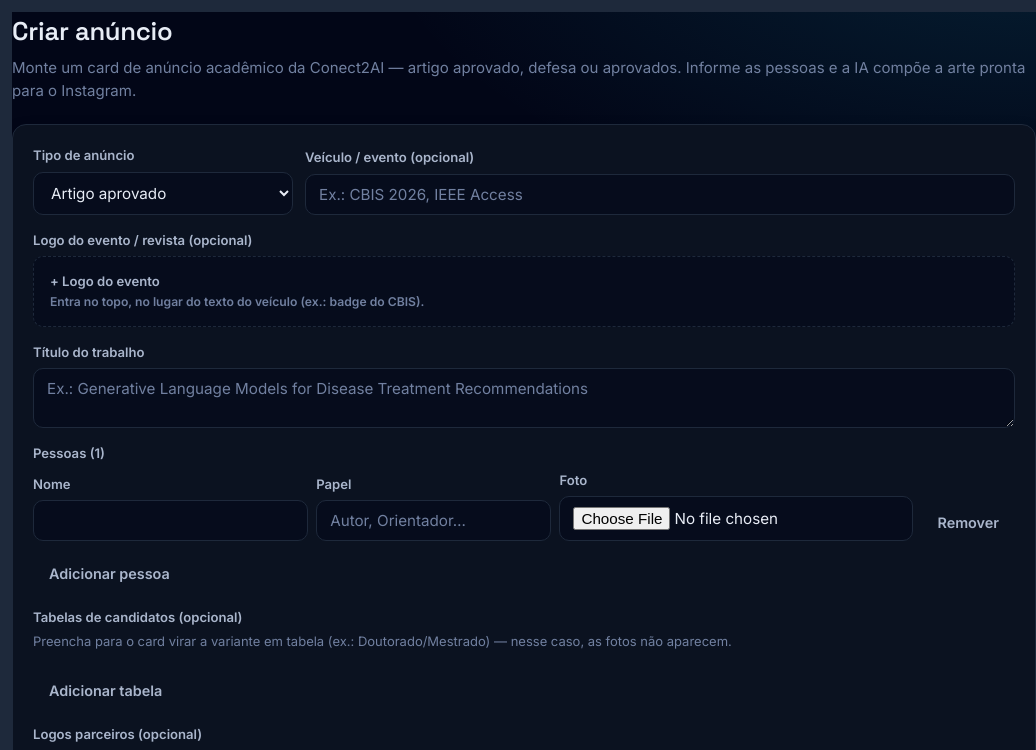
it: PaginaAnuncio › adiciona e remove pessoas do formulario
The width and height of the screenshot is (1036, 750).
Expected: the text "Pessoas (1)" is shown, [33, 445, 105, 461]
Step 1. Click the button "Adicionar pessoa" → (109, 574), box [33, 555, 186, 592]
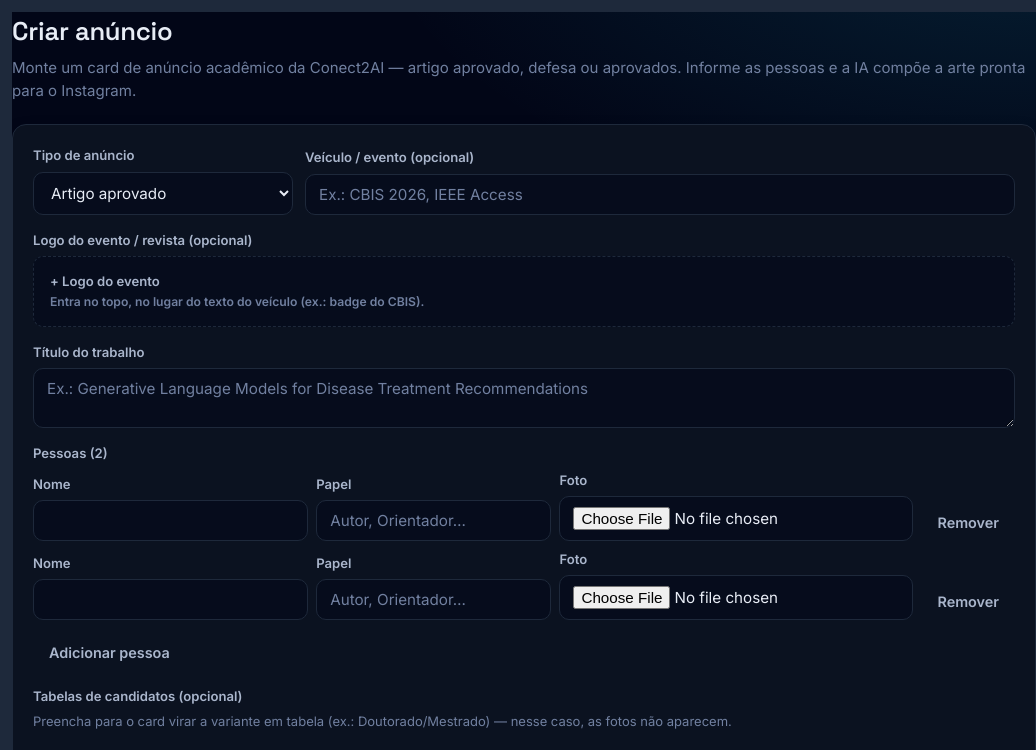
Result: the text "Pessoas (2)" is shown at [33, 445, 108, 461]
Step 2. Click the button with aria-label "Remover pessoa 2" → (968, 602), box [921, 583, 1015, 620]
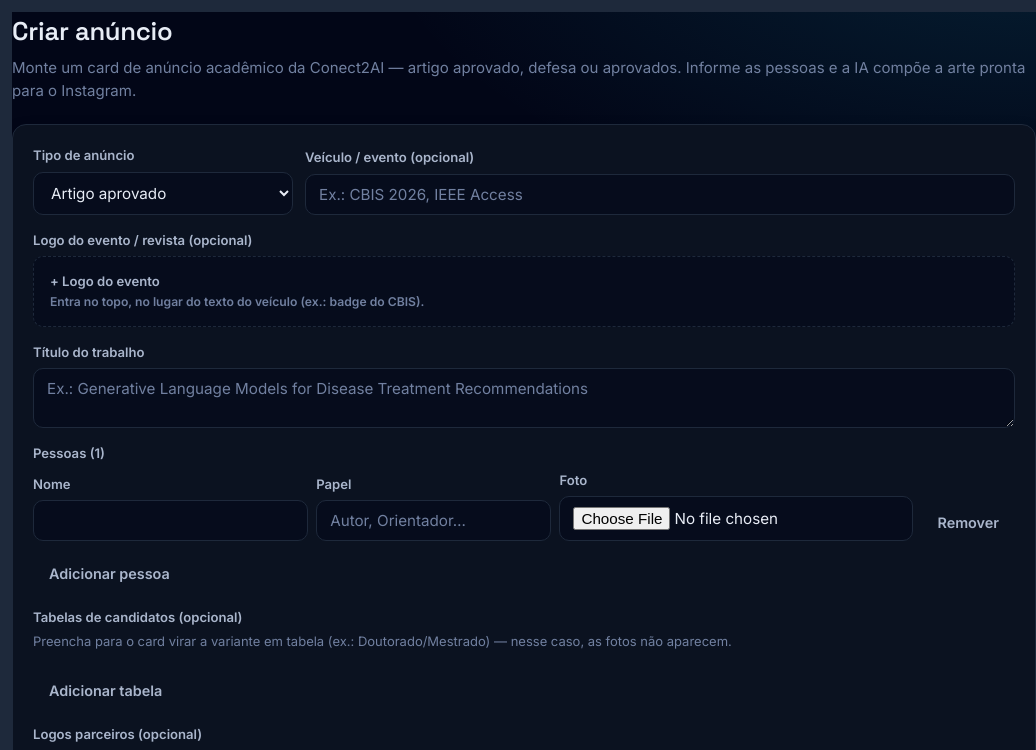
Result: the text "Pessoas (1)" is shown at [33, 445, 105, 461]
